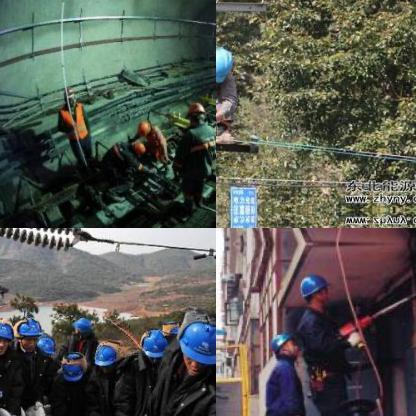Helmet: (178, 316, 215, 367), (297, 272, 327, 304), (61, 350, 88, 384), (15, 313, 39, 351), (268, 330, 298, 360), (216, 43, 234, 87), (140, 328, 166, 358), (92, 342, 116, 364), (185, 100, 205, 124), (72, 315, 90, 341), (0, 318, 13, 353), (36, 334, 52, 362), (134, 116, 152, 134), (60, 84, 76, 102), (128, 141, 147, 155)
